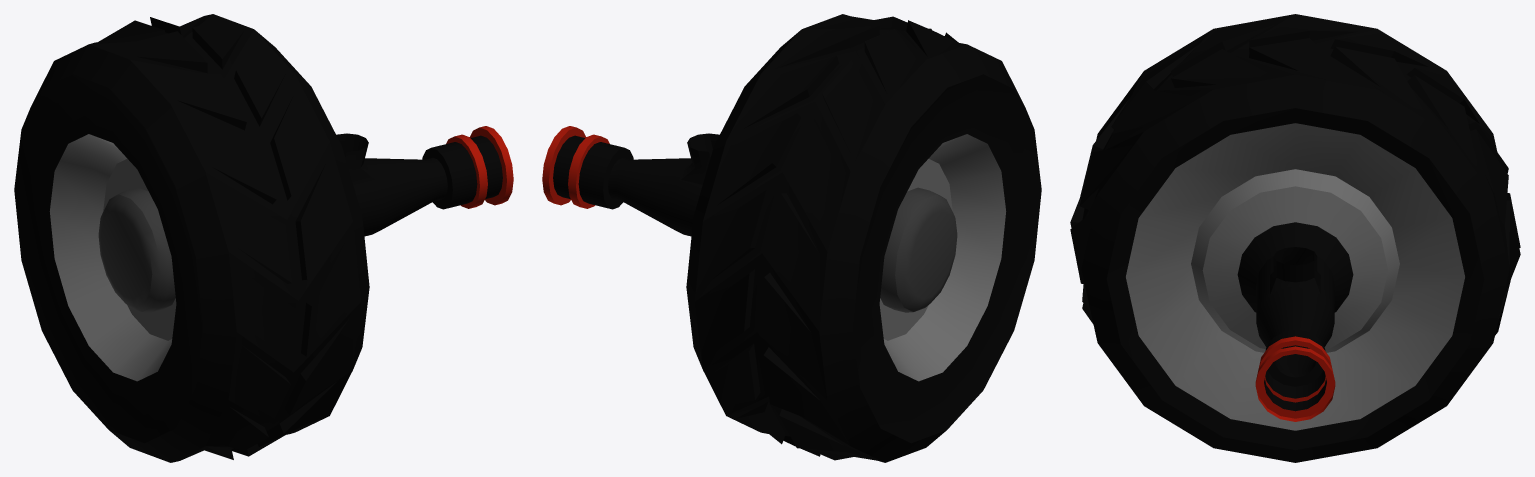
File: wheel1.fbx
3 renders of one model, left to right at view 1: azimuth 30°, elevation 25°; view 2: azimuth 150°, elevation 25°; view 3: azimuth 270°, elevation 25°, orthographic.
Visible parts, largest first — view 1: Circle; view 2: Circle; view 3: Circle.
Part boxes in pixels (bbox=[...]): Circle: bbox=[14, 14, 513, 462]; Circle: bbox=[542, 14, 1041, 462]; Circle: bbox=[1070, 14, 1520, 462].
Size of the model in its own units: 170 by 172 by 172.
1 material, 1 textured.
